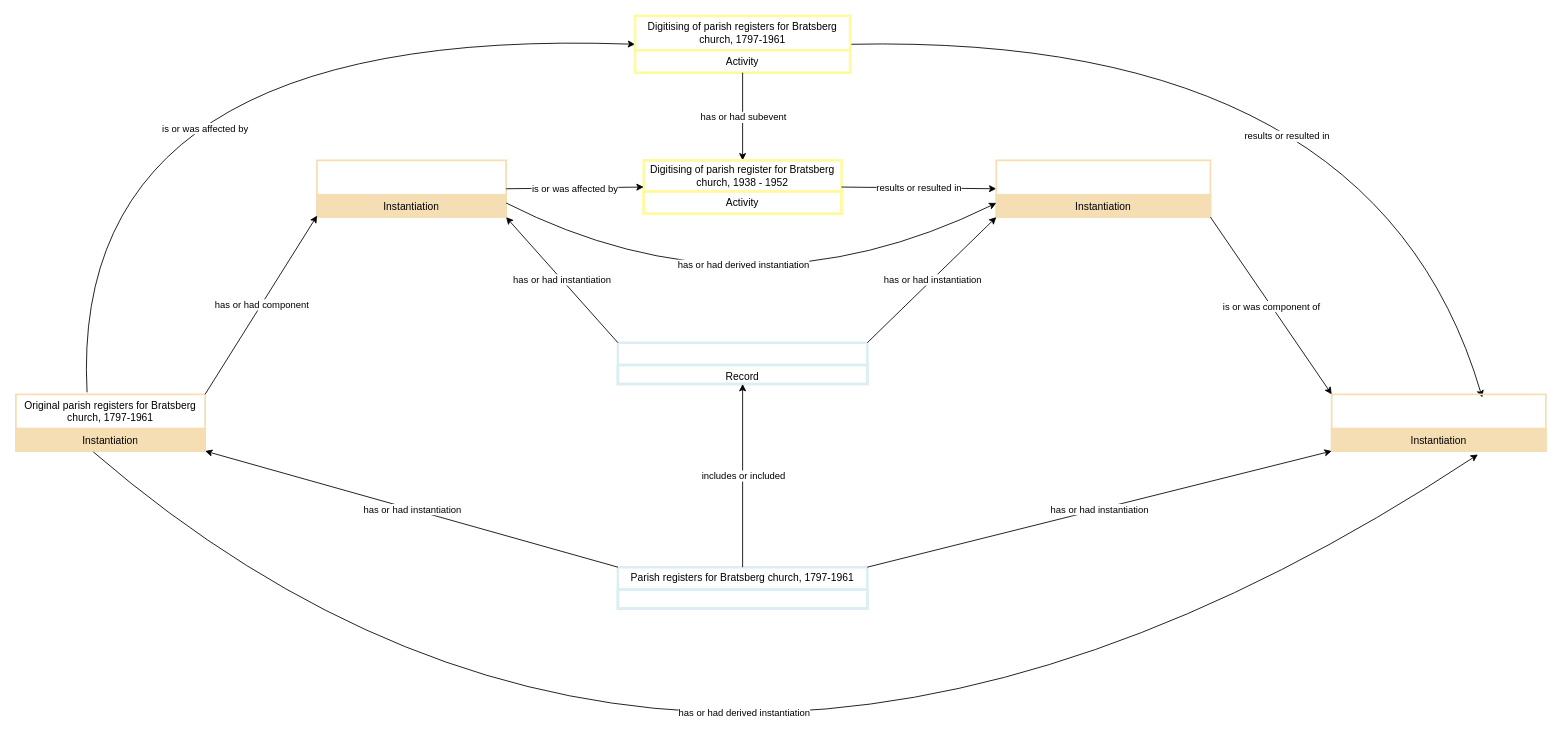
The diagram is 1561 pixels wide and 733 high, and some of its shapes have lost their labels. Here are the shapes that lost their labels. From the top down, the box of each, then its label:
(316, 159, 507, 218): Original parish register for Bratsberg church, 1938 - 1952
(995, 159, 1211, 218): Digitisation of parish register for Bratsberg church, 1938 - 1952
(616, 341, 868, 385): Parish register for Bratsberg church, 1938-1952
(1330, 393, 1546, 452): Digitisation of parish registers for Bratsberg church, 1797-1961
(616, 588, 868, 609): Record Set
